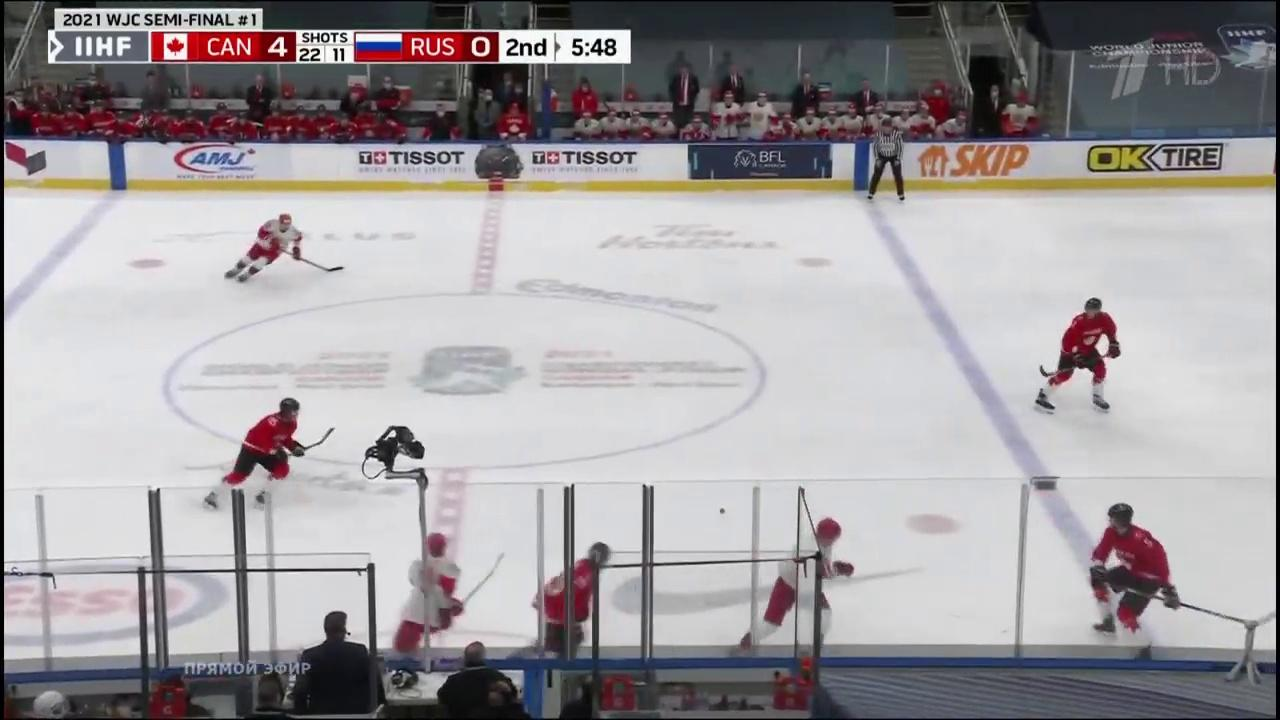ball: (719, 508, 725, 514)
